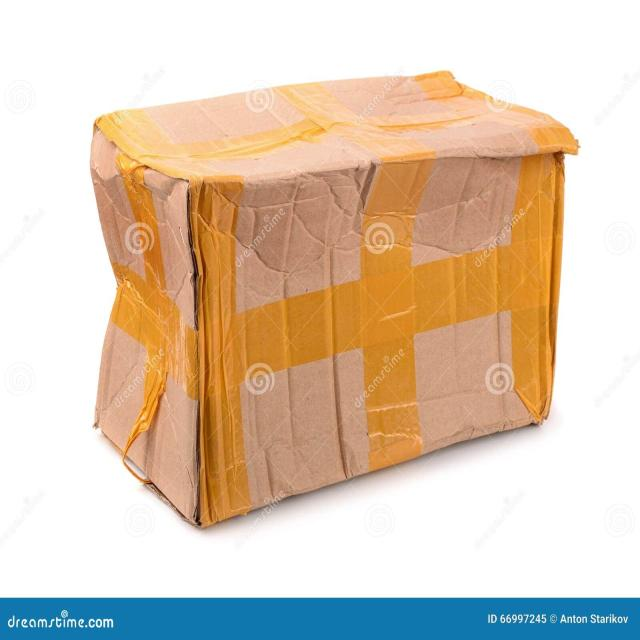Garbage: (80, 64, 587, 532)
